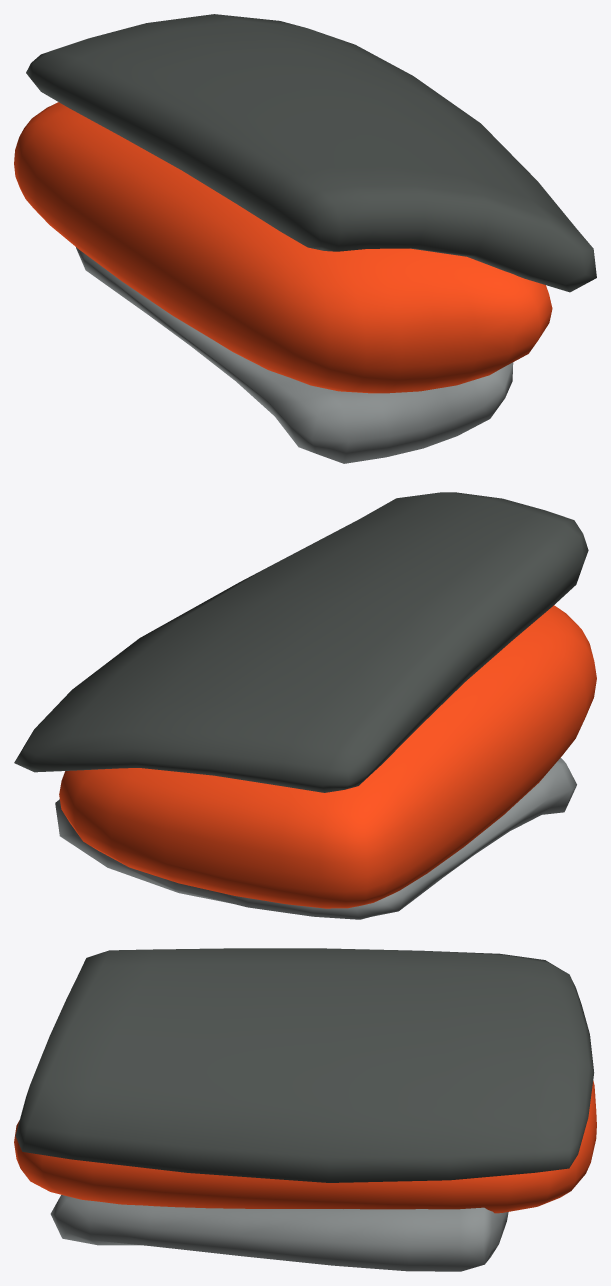
The model's file is xsens_LeftThirdMC.dae.
3 views of the same model, one above another, from view 1: azimuth 30°, elevation 25°; view 2: azimuth 150°, elevation 25°; view 3: azimuth 270°, elevation 25° (orthographic). The views are drawn at different scales.
Visible parts, largest first — view 1: LeftThirdMC; view 2: LeftThirdMC; view 3: LeftThirdMC.
Part boxes in pixels (<box>): LeftThirdMC: <box>14,14,596,463</box>; LeftThirdMC: <box>14,492,596,919</box>; LeftThirdMC: <box>14,948,596,1271</box>.
Size of the model in its own units: 0.0431 by 0.067 by 0.0318.
